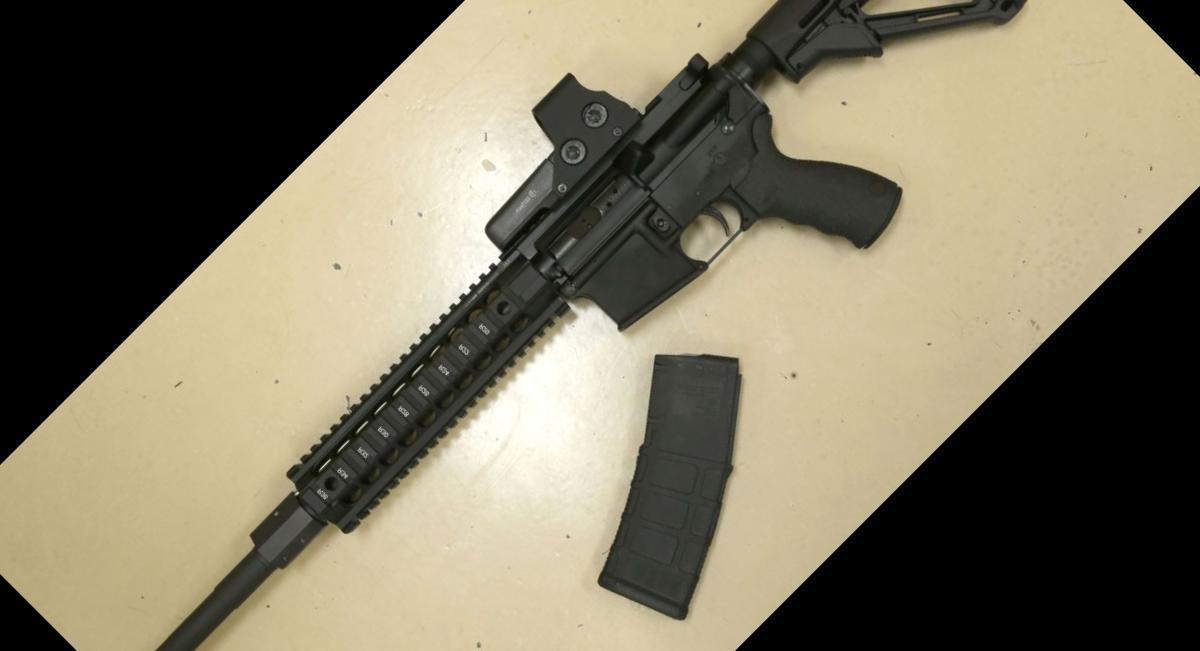larga: (158, 1, 1024, 651)
